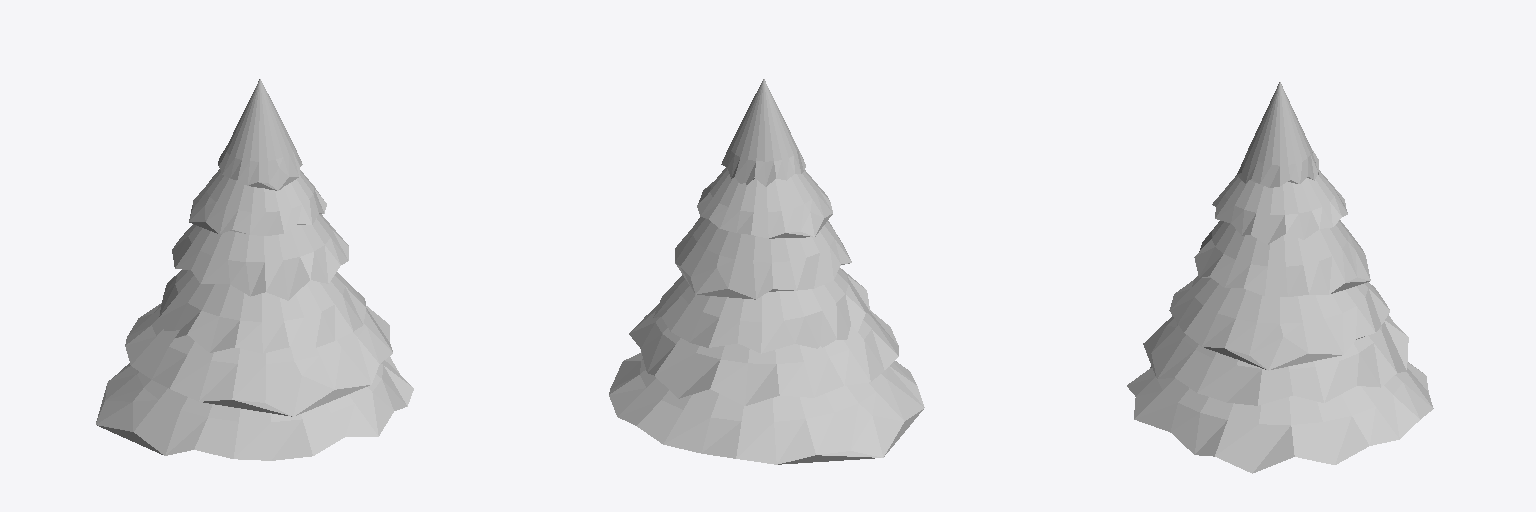
The model's file is ChristmasTree.obj.
3 views of the same model, side by side, from view 1: azimuth 30°, elevation 25°; view 2: azimuth 150°, elevation 25°; view 3: azimuth 270°, elevation 25° (orthographic).
Parts seen in each view (by area): view 1: Cone006, Cone005, Cone004, Cone003, Cone002, Cone001; view 2: Cone006, Cone005, Cone004, Cone003, Cone002, Cone001; view 3: Cone006, Cone004, Cone005, Cone003, Cone002, Cone001.
Part boxes in pixels (bbox=[...]): Cone006: bbox=[96, 356, 413, 460]; Cone005: bbox=[125, 303, 392, 416]; Cone004: bbox=[158, 270, 365, 353]; Cone003: bbox=[172, 214, 348, 300]; Cone002: bbox=[189, 169, 326, 235]; Cone001: bbox=[218, 79, 302, 190]; Cone006: bbox=[609, 352, 924, 464]; Cone005: bbox=[629, 304, 898, 405]; Cone004: bbox=[653, 268, 869, 353]; Cone003: bbox=[675, 217, 851, 299]; Cone002: bbox=[697, 167, 832, 238]; Cone001: bbox=[721, 79, 805, 186]; Cone006: bbox=[1127, 362, 1433, 473]; Cone004: bbox=[1169, 276, 1389, 370]; Cone005: bbox=[1143, 314, 1408, 405]; Cone003: bbox=[1194, 220, 1370, 296]; Cone002: bbox=[1212, 170, 1347, 244]; Cone001: bbox=[1237, 82, 1319, 187].
Size of the model in its own units: 24.05 by 29.46 by 23.19.